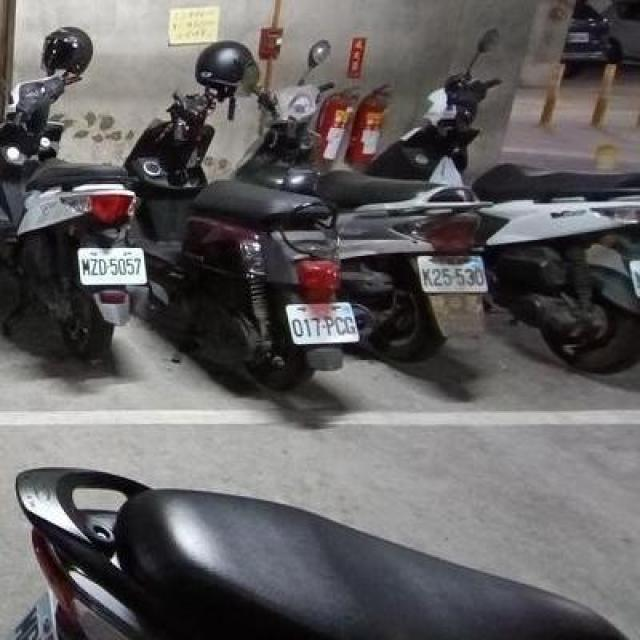W: (280, 293, 362, 352), (411, 246, 491, 298), (72, 238, 149, 292), (627, 245, 640, 302)
